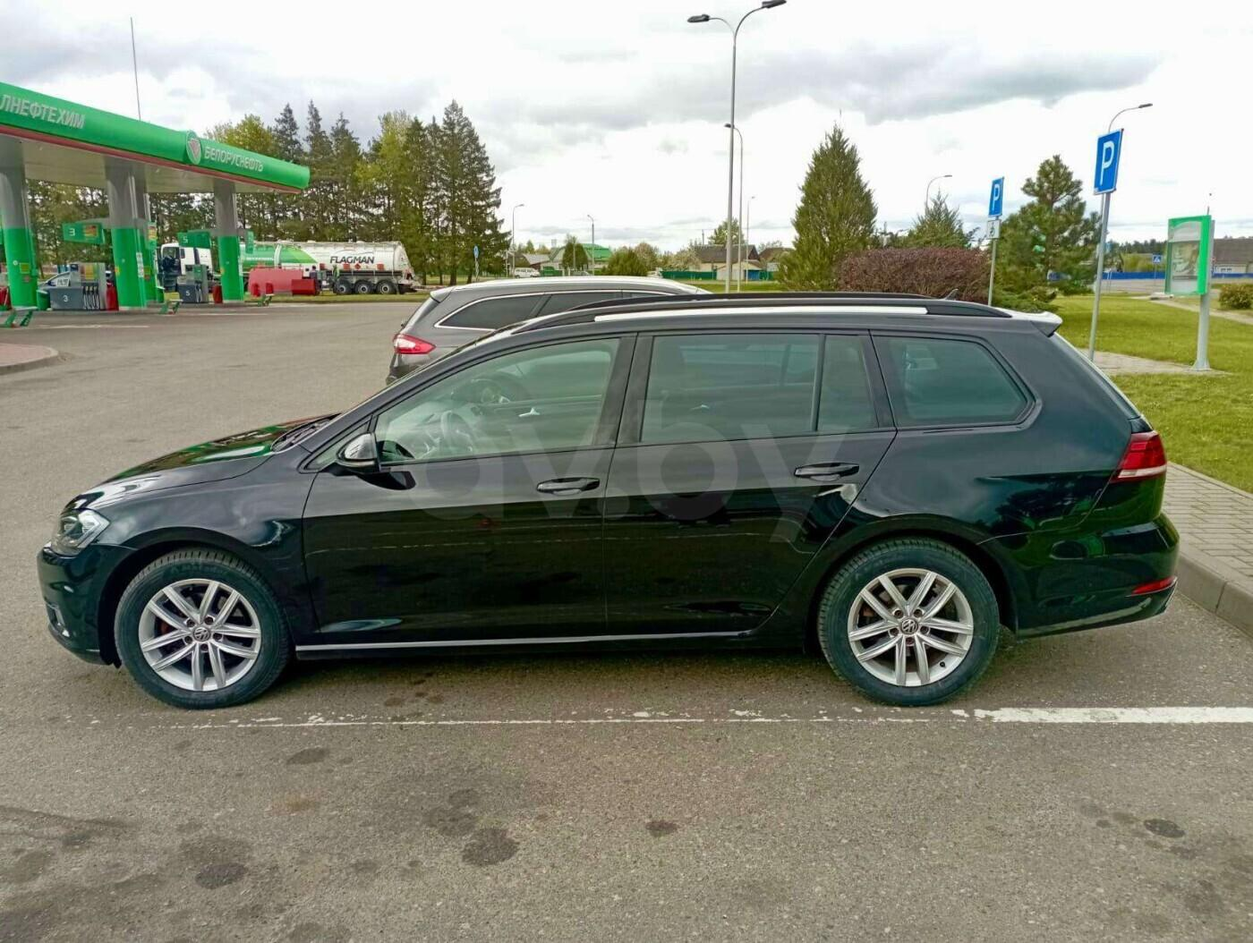Golf_2017-2021: (45, 296, 1192, 710)
